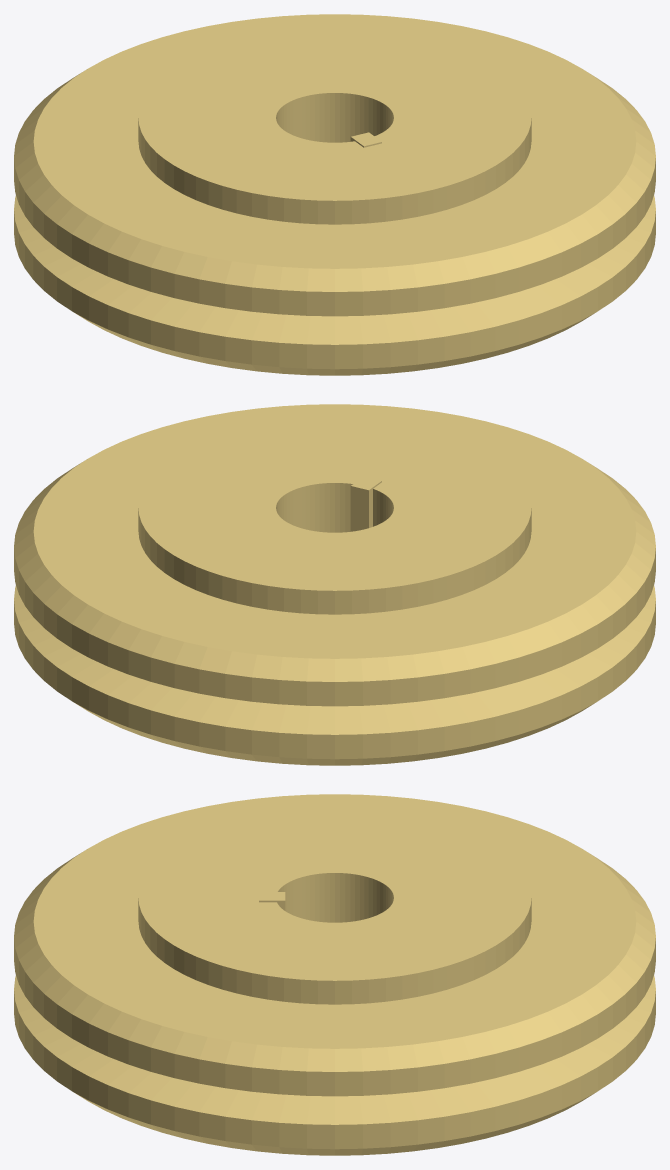
File: pl-0206-v-belt-pulley.glb
3 views of the same model, one above another, from view 1: azimuth 30°, elevation 25°; view 2: azimuth 150°, elevation 25°; view 3: azimuth 270°, elevation 25° (orthographic).
Bounding box in the file's own units: 98 × 26.5 × 98.
